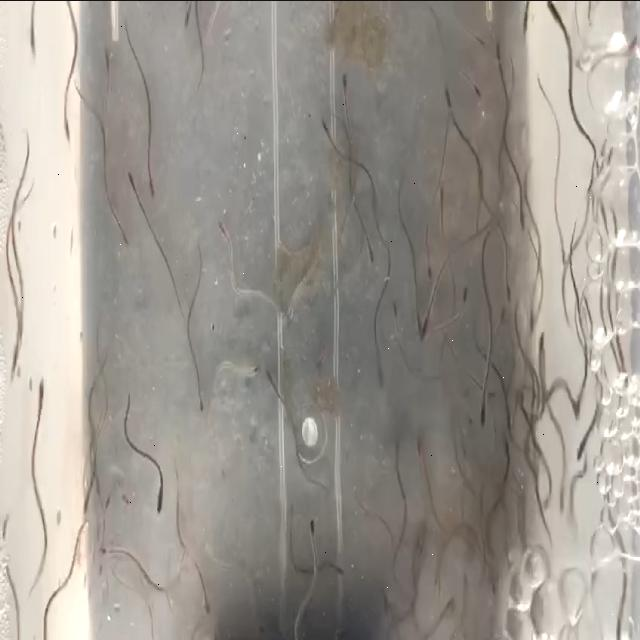active_glass_eel: (32, 370, 46, 420), (153, 475, 167, 519), (125, 156, 139, 200), (216, 213, 232, 251), (7, 339, 19, 386), (100, 47, 116, 81), (119, 220, 133, 258), (28, 18, 40, 58), (183, 1, 196, 37), (364, 228, 376, 266), (574, 429, 586, 466), (193, 382, 207, 413), (479, 384, 488, 430), (62, 105, 72, 146), (518, 0, 528, 41), (17, 304, 28, 341), (538, 328, 548, 368), (338, 72, 350, 104), (243, 362, 262, 382), (503, 270, 513, 302), (494, 40, 504, 72), (547, 0, 562, 21), (443, 84, 455, 110), (118, 486, 132, 508), (306, 516, 316, 546), (320, 111, 330, 141), (262, 366, 274, 390), (202, 590, 212, 618), (390, 295, 400, 323), (420, 313, 428, 348), (517, 200, 527, 228), (148, 165, 156, 199), (424, 248, 432, 282), (437, 185, 446, 215), (415, 298, 422, 336), (102, 540, 114, 562), (80, 492, 92, 514), (470, 78, 482, 100), (376, 358, 386, 384), (334, 562, 346, 582), (459, 287, 468, 313), (414, 434, 424, 456), (474, 30, 486, 48), (498, 309, 507, 333), (484, 382, 496, 400), (573, 394, 582, 414), (527, 308, 533, 336)
